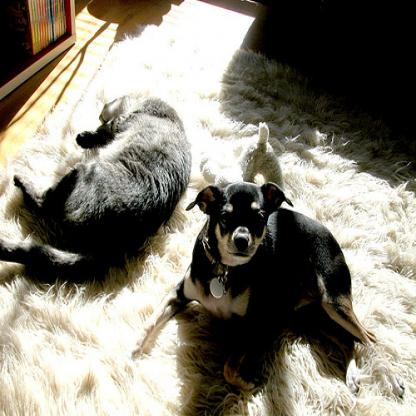cat: (2, 93, 191, 273)
dog: (134, 180, 400, 394)
